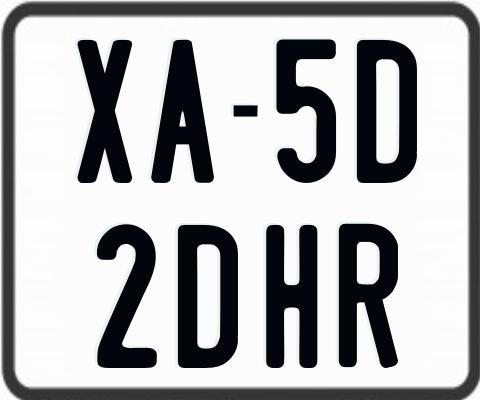2: (96, 222, 162, 372)
5: (276, 36, 338, 184)
A: (151, 39, 217, 188)
D: (178, 224, 243, 367), (355, 40, 415, 186)
H: (263, 225, 319, 370)
R: (337, 224, 396, 368)
X: (75, 37, 130, 186)
